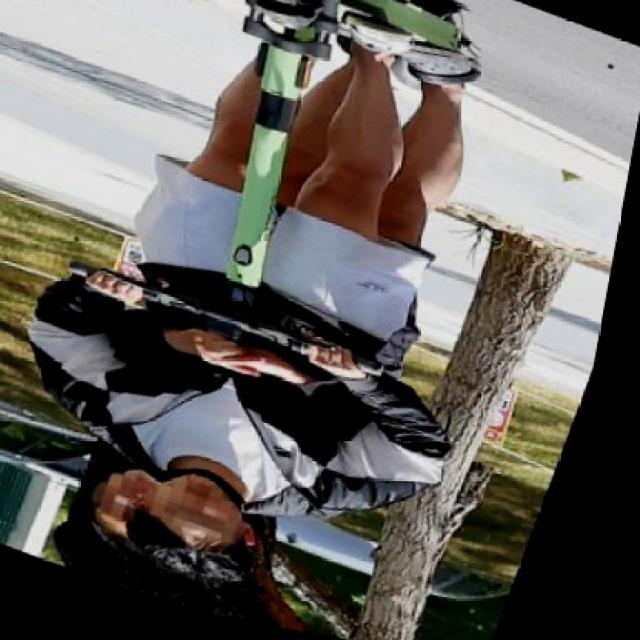bare_head: (137, 465, 254, 594), (71, 465, 179, 587)
human: (60, 0, 479, 577), (101, 0, 406, 586)
kickboard: (230, 0, 504, 79)
